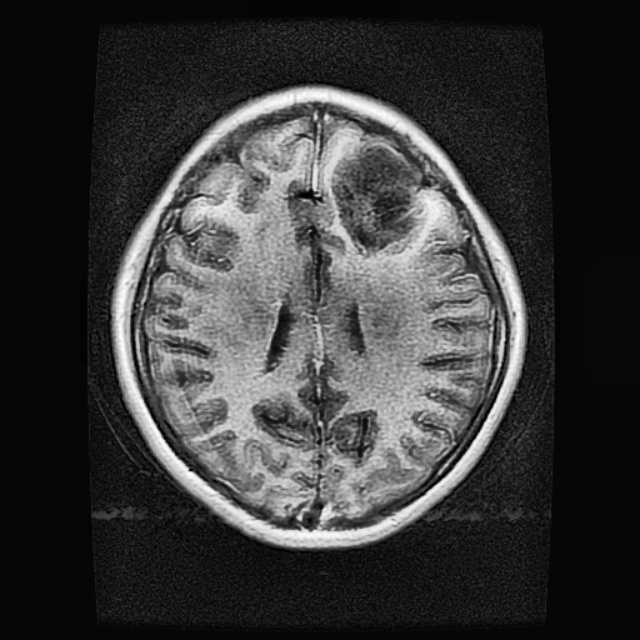Glioma: (328, 139, 428, 255)
